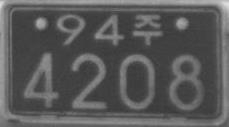0: (117, 53, 156, 111)
2: (69, 51, 107, 110)
4: (23, 51, 59, 108), (93, 13, 125, 46)
8: (168, 52, 206, 112)
9: (56, 12, 86, 46)
주: (133, 12, 163, 46)
